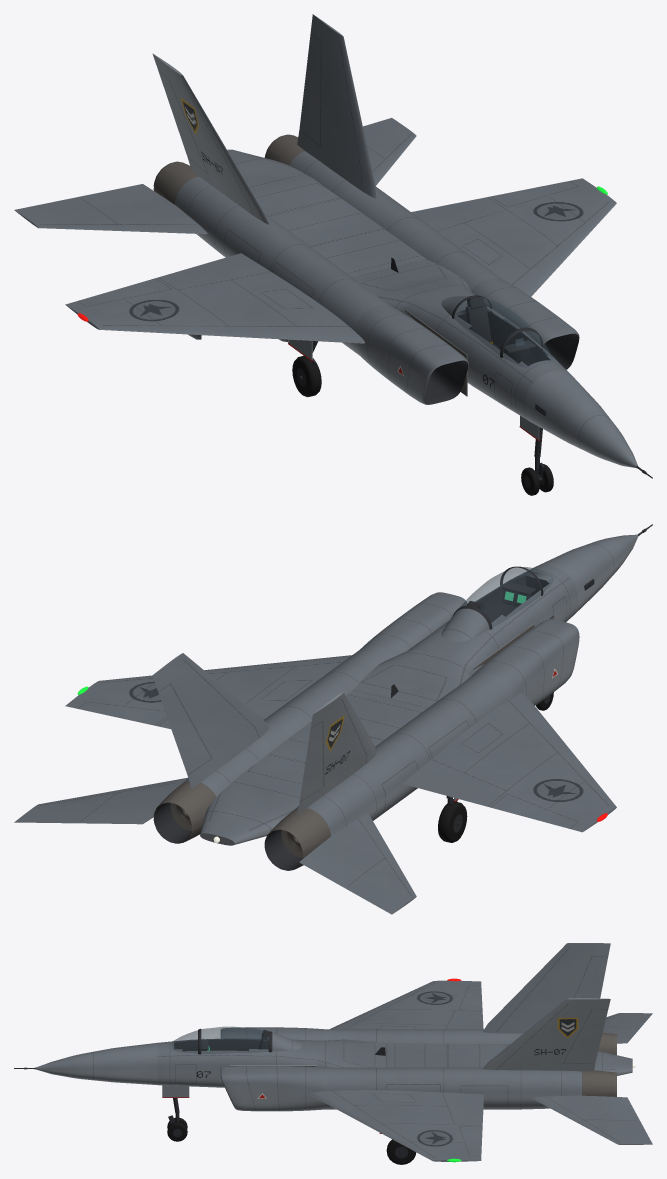
File: SteelHawk_Fighter.glb
3 views of the same model, one above another, from view 1: azimuth 30°, elevation 25°; view 2: azimuth 150°, elevation 25°; view 3: azimuth 270°, elevation 25° (orthographic). The views are drawn at different scales.
Visible parts, largest first — view 1: Fuselage_Main, Wing_Left, Wing_Right, Engine_Housing_Left, VerticalStabilizer_Right, Intake_Left, HorizontalStabilizer_Left, Engine_Housing_Right, Nose_Section, VerticalStabilizer_Left, Canopy_Glass, Intake_Right (+7 smaller); view 2: Fuselage_Main, Wing_Left, Engine_Housing_Left, VerticalStabilizer_Right, Wing_Right, HorizontalStabilizer_Left, Engine_Housing_Right, Intake_Left, VerticalStabilizer_Left, HorizontalStabilizer_Right, Canopy_Glass, Nose_Section (+6 smaller); view 3: Fuselage_Main, Wing_Right, Engine_Housing_Right, VerticalStabilizer_Right, VerticalStabilizer_Left, Wing_Left, Intake_Right, Nose_Section, HorizontalStabilizer_Right, Engine_Housing_Left, Canopy_Glass, Intake_Left (+7 smaller).
Boxes of the visible parts, left/top/right/bottom form: Fuselage_Main: left=227, top=149, right=569, bottom=421; Wing_Left: left=65, top=253, right=364, bottom=343; Wing_Right: left=411, top=178, right=616, bottom=296; Engine_Housing_Left: left=175, top=176, right=392, bottom=355; VerticalStabilizer_Right: left=297, top=14, right=376, bottom=198; Intake_Left: left=352, top=305, right=468, bottom=404; HorizontalStabilizer_Left: left=14, top=184, right=207, bottom=234; Engine_Housing_Right: left=289, top=151, right=502, bottom=315; Nose_Section: left=525, top=370, right=637, bottom=468; VerticalStabilizer_Left: left=152, top=53, right=269, bottom=224; Canopy_Glass: left=441, top=296, right=553, bottom=367; Intake_Right: left=463, top=278, right=579, bottom=369; Fuselage_Main: left=200, top=565, right=577, bottom=845; Wing_Left: left=403, top=693, right=616, bottom=832; Engine_Housing_Left: left=293, top=673, right=512, bottom=835; VerticalStabilizer_Right: left=152, top=653, right=269, bottom=788; Wing_Right: left=65, top=655, right=351, bottom=728; HorizontalStabilizer_Left: left=299, top=813, right=416, bottom=914; Engine_Housing_Right: left=182, top=645, right=393, bottom=796; Intake_Left: left=472, top=619, right=579, bottom=705; VerticalStabilizer_Left: left=297, top=692, right=376, bottom=813; HorizontalStabilizer_Right: left=14, top=777, right=187, bottom=824; Canopy_Glass: left=441, top=567, right=553, bottom=641; Nose_Section: left=527, top=534, right=638, bottom=613; Fuselage_Main: left=157, top=1038, right=632, bottom=1087; Wing_Right: left=309, top=1090, right=483, bottom=1161; Engine_Housing_Right: left=325, top=1067, right=581, bottom=1109; VerticalStabilizer_Right: left=483, top=998, right=610, bottom=1071; VerticalStabilizer_Left: left=483, top=943, right=610, bottom=1033; Wing_Left: left=330, top=980, right=483, bottom=1029; Intake_Right: left=220, top=1066, right=325, bottom=1111; Nose_Section: left=36, top=1043, right=157, bottom=1084; HorizontalStabilizer_Right: left=532, top=1095, right=652, bottom=1144; Engine_Housing_Left: left=325, top=1029, right=523, bottom=1044; Canopy_Glass: left=172, top=1026, right=302, bottom=1053; Intake_Left: left=220, top=1027, right=325, bottom=1040.
Size of what is drawn, in the model's own units: 12.75 by 5.5 by 18.96.
Materials: 7 (3 with a texture image).
